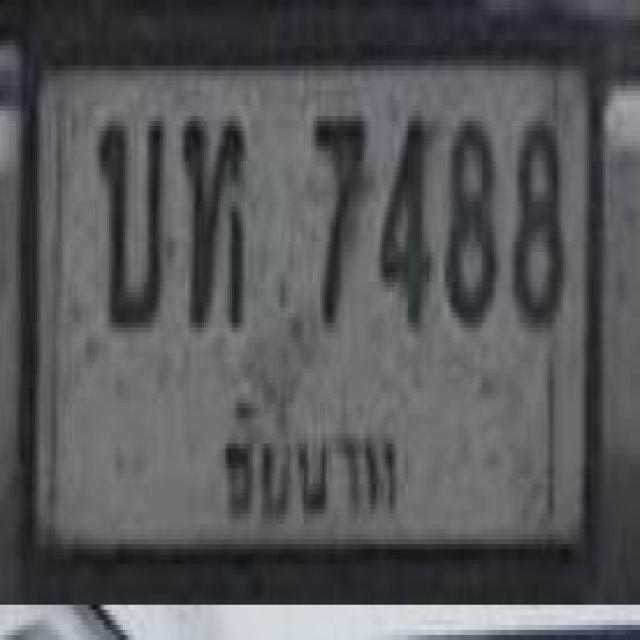license_plate: (23, 24, 599, 596)
